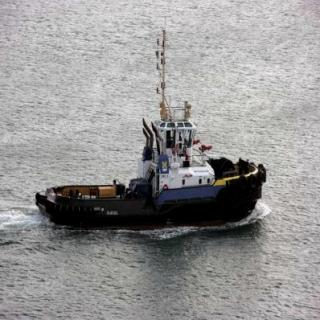Tug Boat: (38, 91, 267, 225)
